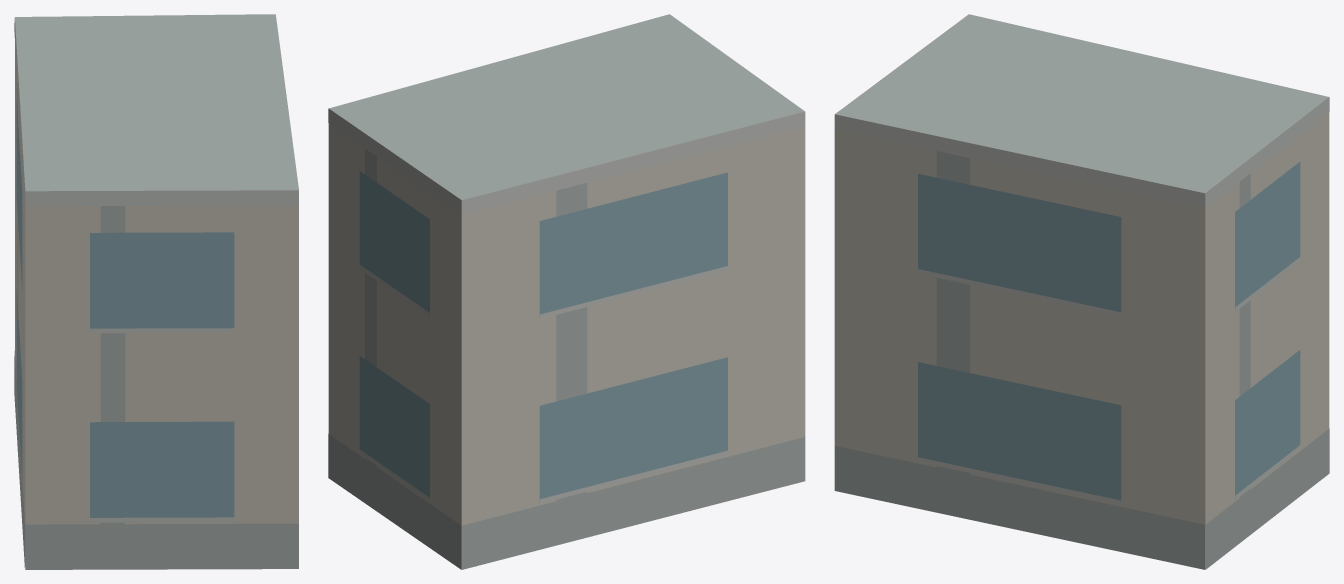
Rendered from survey-upis-32742284.glb.
3 renders of one model, left to right at view 1: azimuth 30°, elevation 25°; view 2: azimuth 150°, elevation 25°; view 3: azimuth 270°, elevation 25°, orthographic. The views are drawn at different scales.
Parts seen in each view (by area): view 1: survey-upis-32742284.tmp; view 2: survey-upis-32742284.tmp; view 3: survey-upis-32742284.tmp.
Part boxes in pixels (bbox=[...]): survey-upis-32742284.tmp: bbox=[14, 14, 298, 569]; survey-upis-32742284.tmp: bbox=[328, 14, 805, 569]; survey-upis-32742284.tmp: bbox=[834, 14, 1329, 569].
Size of the model in its own units: 6.24 by 6.1 by 7.27.
